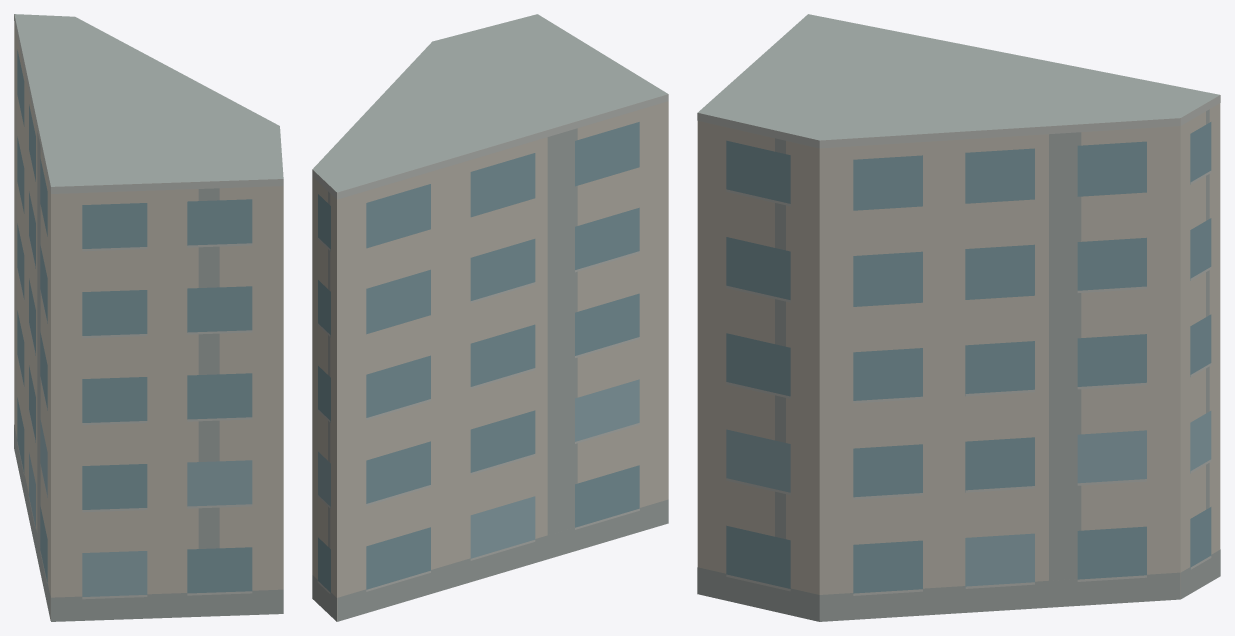
The model's file is survey-upis-32733883.glb.
The picture shows the model from 3 angles, left to right: view 1: azimuth 30°, elevation 25°; view 2: azimuth 150°, elevation 25°; view 3: azimuth 270°, elevation 25°; orthographic projection. The views are drawn at different scales.
Parts seen in each view (by area): view 1: survey-upis-32733883.tmp; view 2: survey-upis-32733883.tmp; view 3: survey-upis-32733883.tmp.
Boxes of the visible parts, x1=… form: survey-upis-32733883.tmp: x1=14, y1=14, x2=283, y2=621; survey-upis-32733883.tmp: x1=312, y1=14, x2=668, y2=621; survey-upis-32733883.tmp: x1=697, y1=14, x2=1220, y2=621.
Size of the model in its own units: 8.35 by 14.8 by 14.58.
